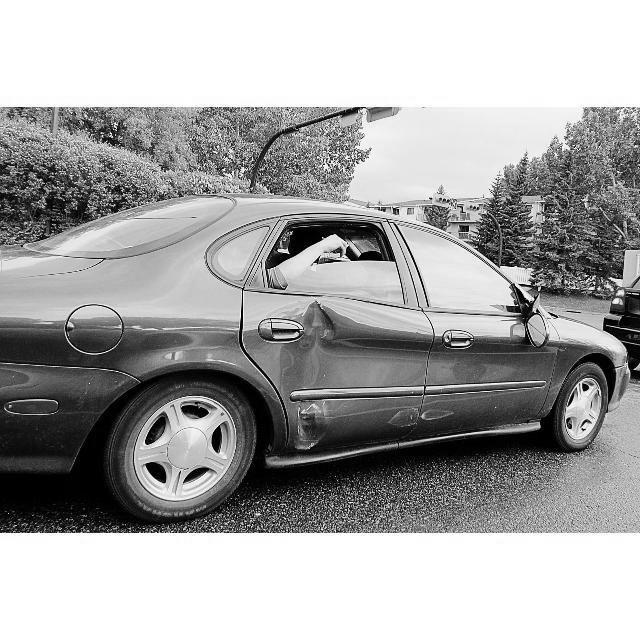doorouter-dent: (230, 220, 410, 444)
